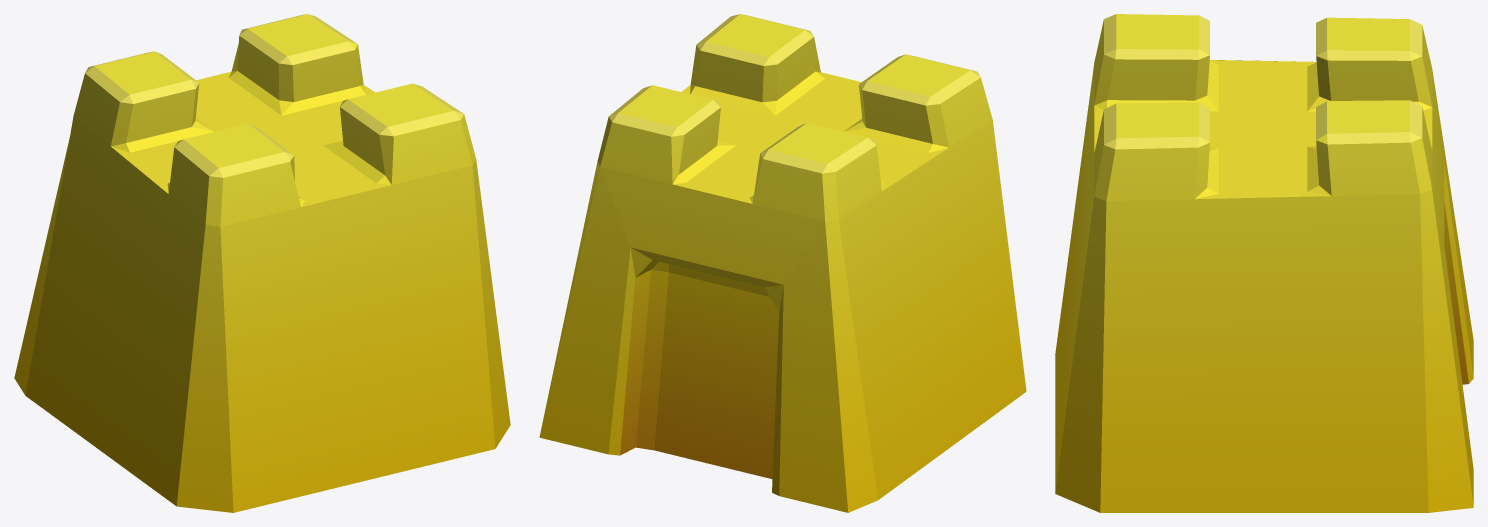
File: Sand Castle.glb
3 renders of one model, left to right at view 1: azimuth 30°, elevation 25°; view 2: azimuth 150°, elevation 25°; view 3: azimuth 270°, elevation 25°, orthographic. The views are drawn at different scales.
Parts seen in each view (by area): view 1: Sand Castle; view 2: Sand Castle; view 3: Sand Castle.
Boxes of the visible parts, x1=… form: Sand Castle: x1=14, y1=14, x2=510, y2=512; Sand Castle: x1=539, y1=14, x2=1026, y2=512; Sand Castle: x1=1055, y1=14, x2=1473, y2=512.
Bounding box in the file's own units: 0.4199 × 0.3916 × 0.4199.
Materials: 1 (1 with a texture image).
